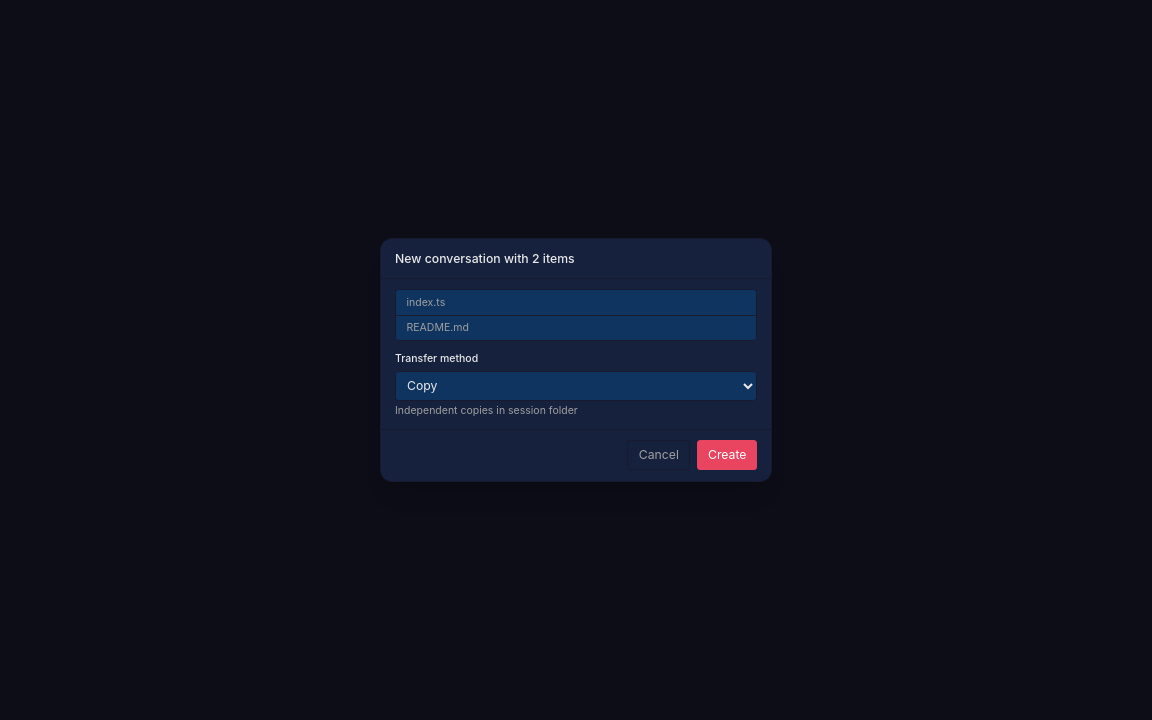
Test: NewConversationFromFilesModal › shows "renamed" indicator for changed names
Click the button "index.ts": (426,303) [406,296,445,310]
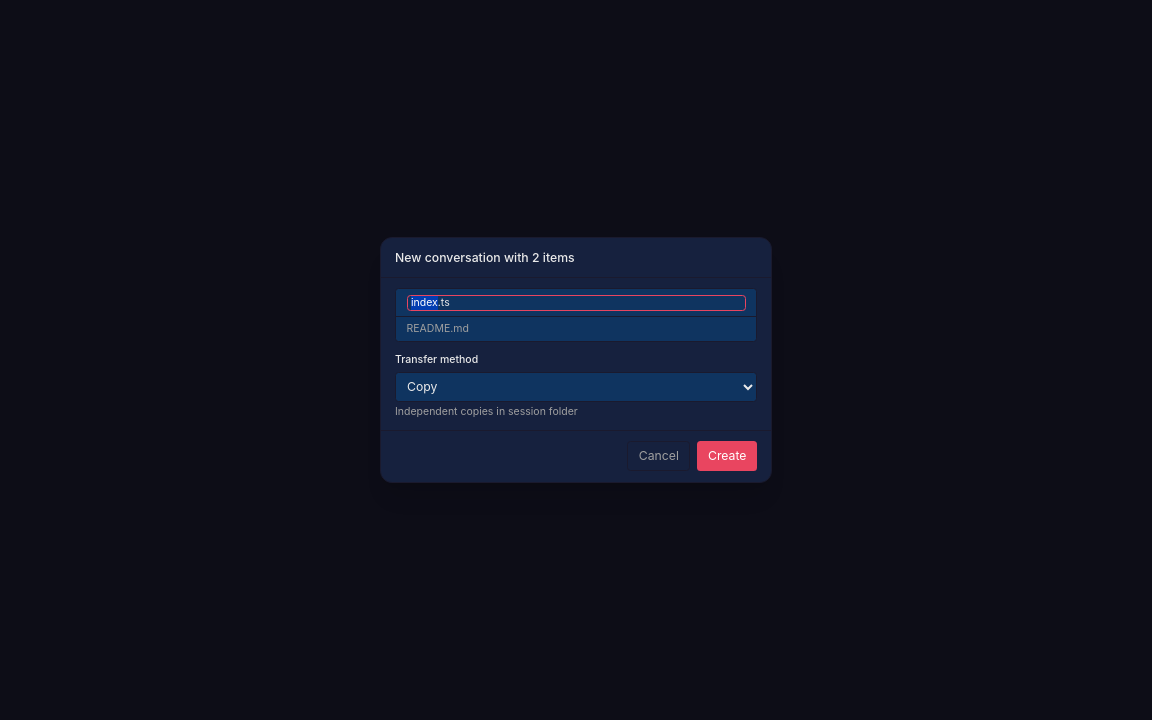
Replace the text in the field named "Edit file name" with "main.ts": (576,303) [406,295,746,311]
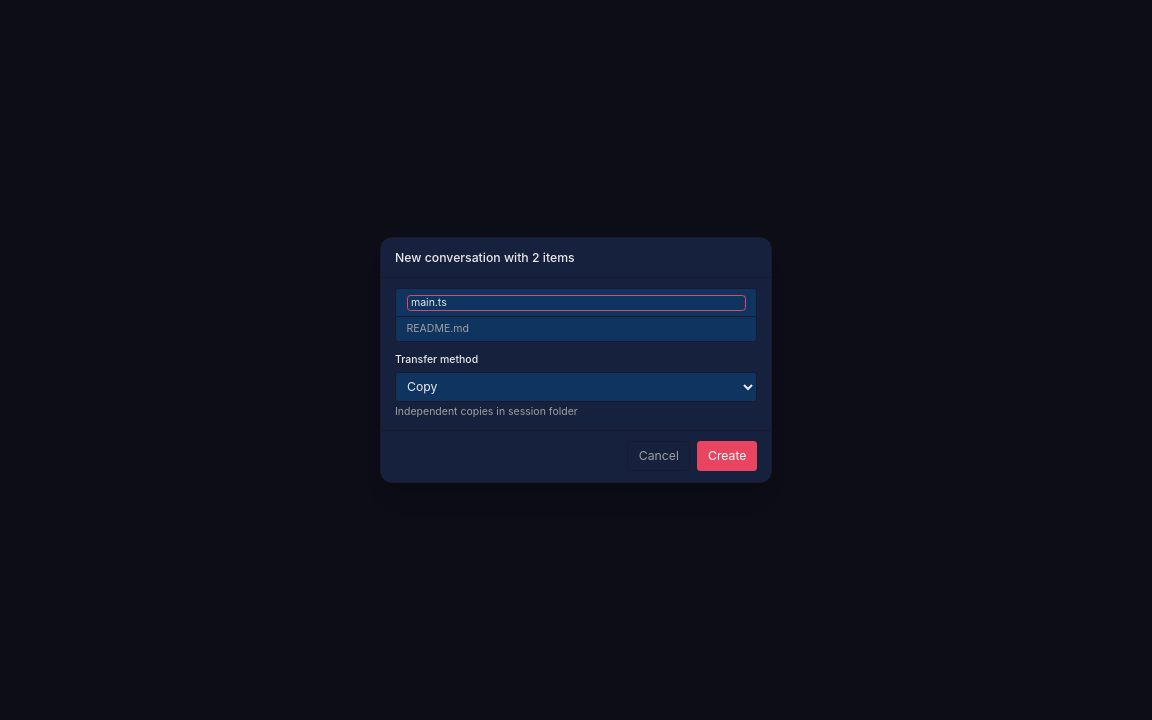
Press Enter in the field named "Edit file name", box [406,295,746,311]
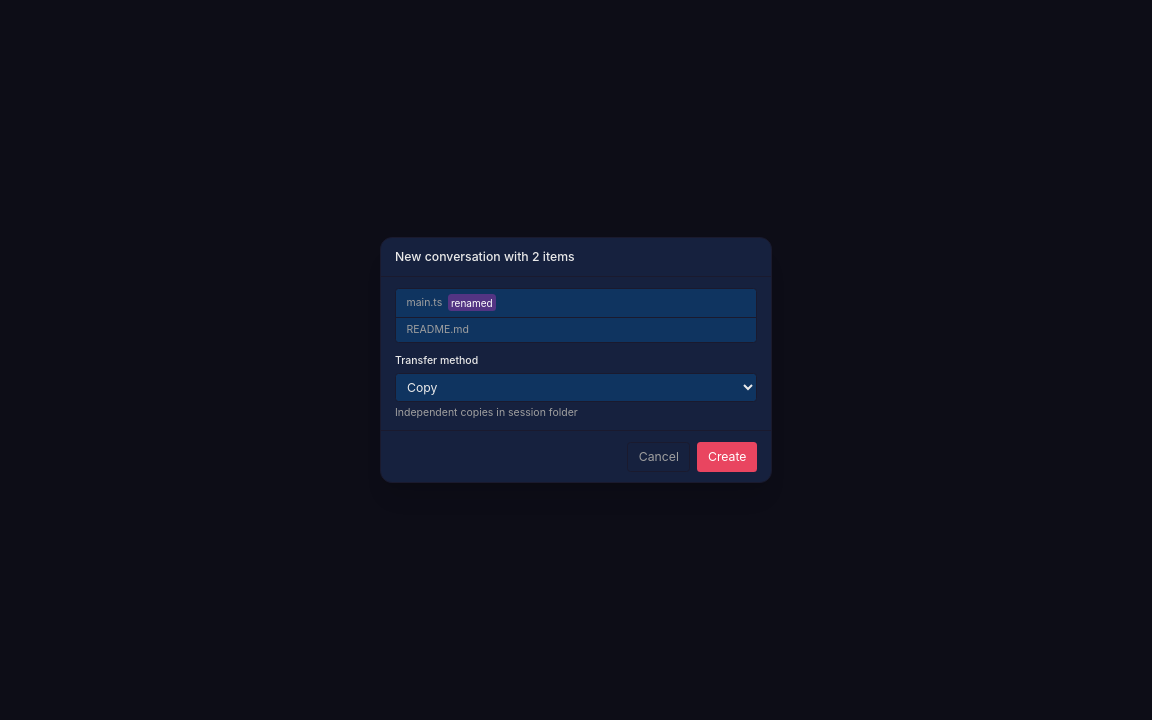
Expected: the text "renamed" is shown, [448,294,496,311]
